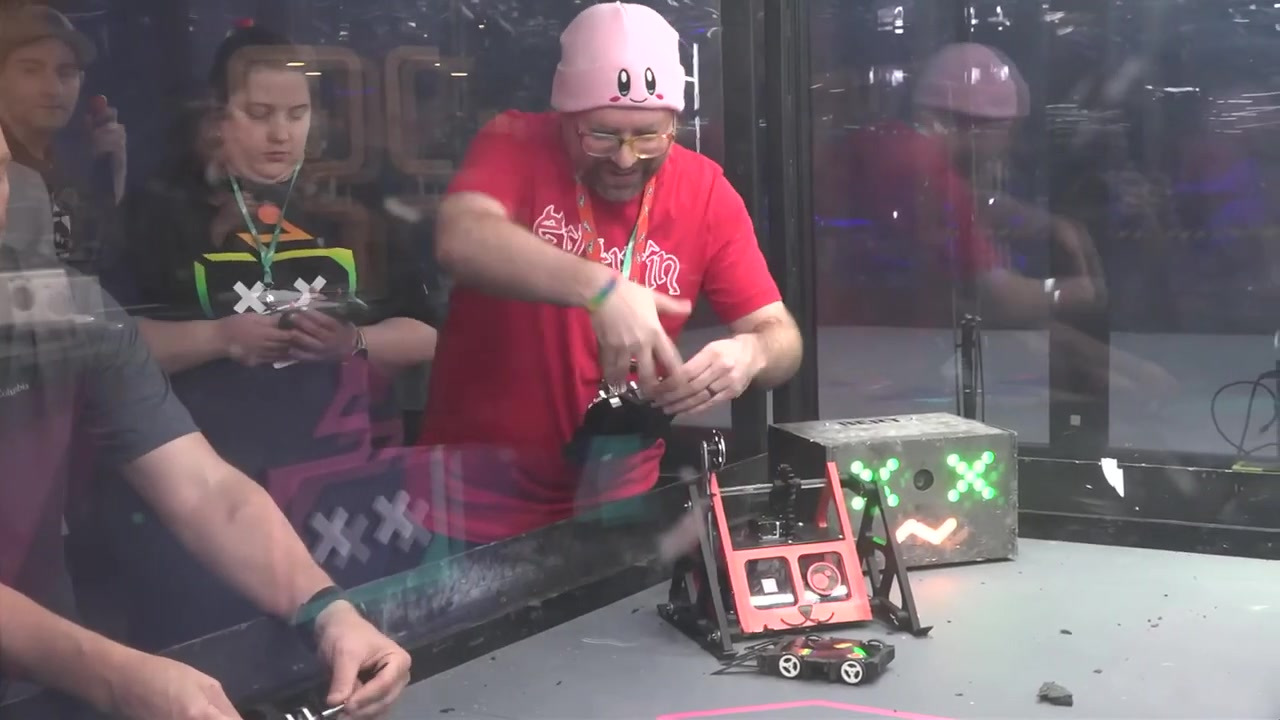combatbot: (657, 426, 927, 640), (712, 634, 897, 685)
debris: (1040, 681, 1074, 707)
housebot: (761, 411, 1022, 570)
